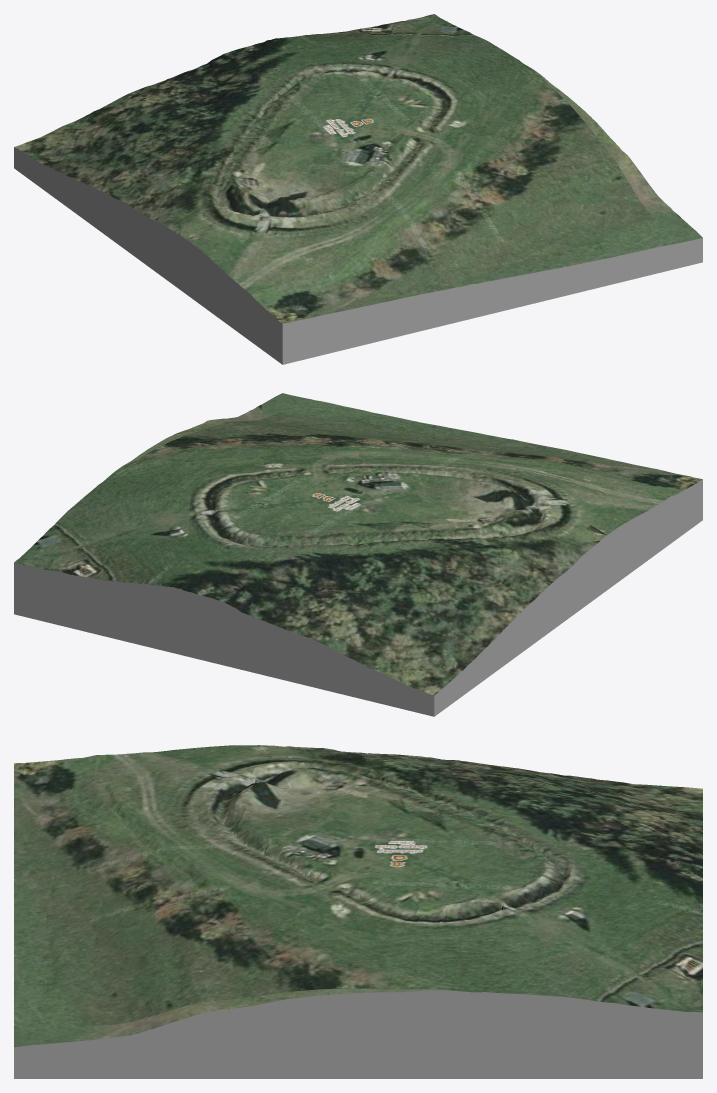
The model's file is Curia_Solid2.glb.
The picture shows the model from 3 angles, top to bottom: view 1: azimuth 30°, elevation 25°; view 2: azimuth 150°, elevation 25°; view 3: azimuth 270°, elevation 25°; orthographic projection. The views are drawn at different scales.
Visible parts, largest first — view 1: Solid1; view 2: Solid1; view 3: Solid1.
Part boxes in pixels (x1,y1,x2,y2): Solid1: (14, 14, 702, 364); Solid1: (14, 393, 702, 716); Solid1: (14, 745, 702, 1078).
Size of the model in its own units: 152 by 27.8 by 168.
Materials: 2 (1 with a texture image).
